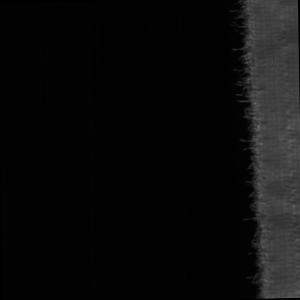Damage: (233, 1, 275, 299)
